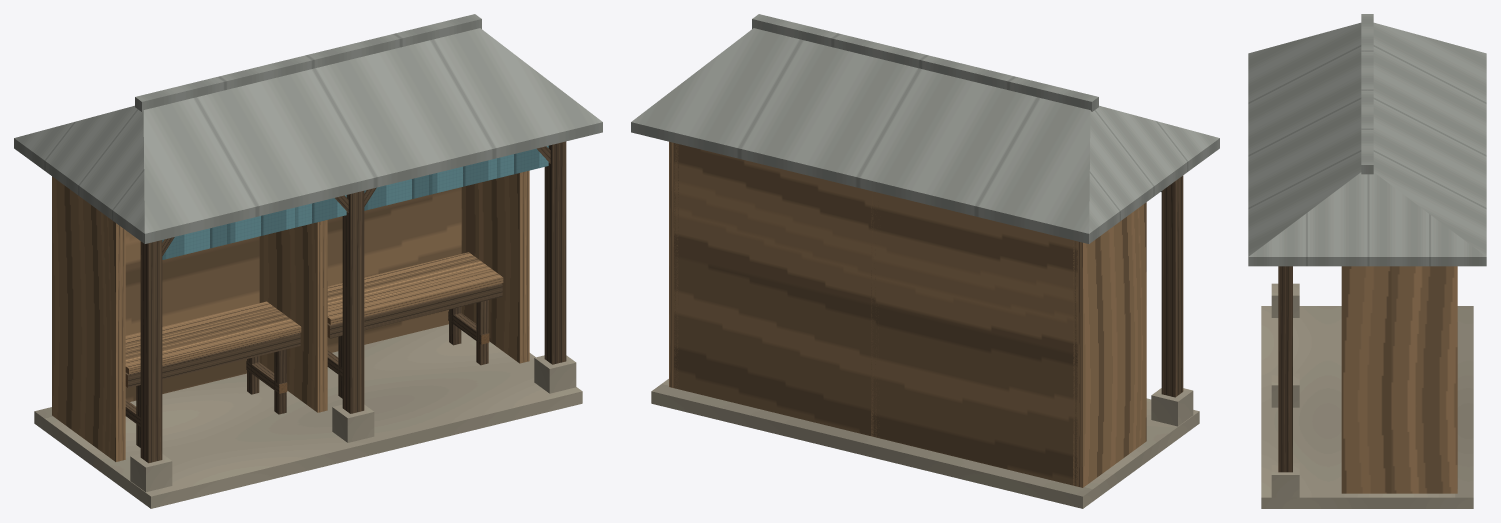
The picture shows the model from 3 angles, left to right: view 1: azimuth 30°, elevation 25°; view 2: azimuth 150°, elevation 25°; view 3: azimuth 270°, elevation 25°; orthographic projection. The views are drawn at different scales.
Visible parts, largest first — view 1: george-town; view 2: george-town; view 3: george-town.
Part boxes in pixels (<box>): george-town: <box>14,14,602,508</box>; george-town: <box>631,14,1219,508</box>; george-town: <box>1248,14,1486,508</box>.
Bounding box in the file's own units: 3.37 × 2.5 × 1.67.
Materials: 1 (1 with a texture image).
